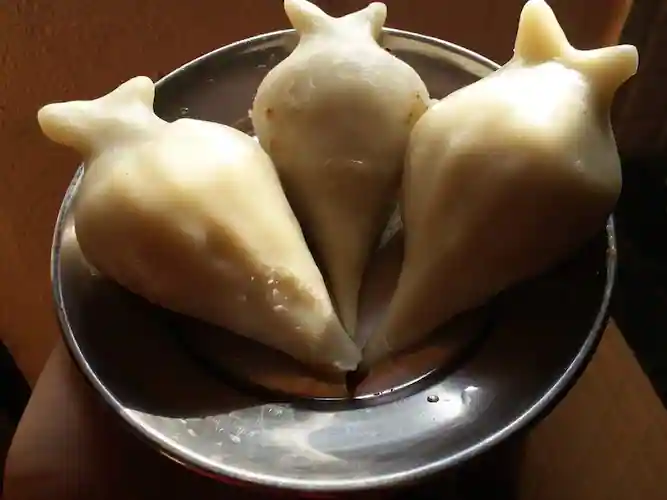yomari: (32, 77, 267, 352), (444, 2, 644, 258), (286, 0, 407, 263)
